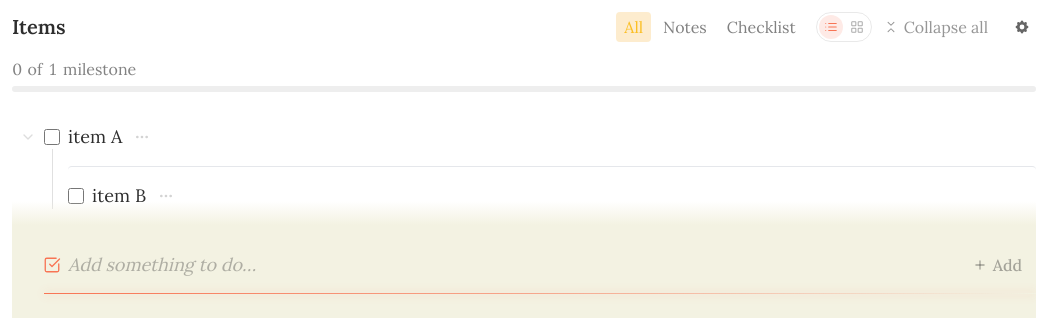
Test: Todo add bar nesting into a collapsed parent (FS-0007 R8.9) › should open a collapsed target when the add bar nests under it
expect the text "item A" is shown: met, box 68,124 -> 122,150
Step 1. Click the button named "Collapse item A" → (28, 137), box 12,121 -> 44,153
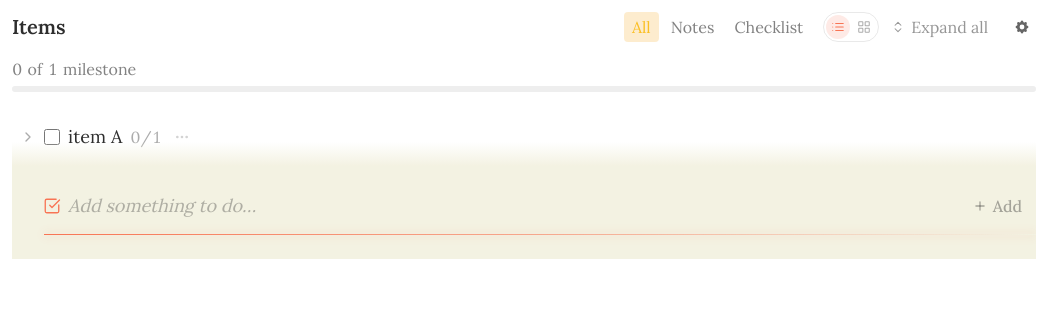
expect the text "item B" is gone: met
Step 2. Press Tab in the field labelled "Add something to do…", box 68,190 -> 947,222
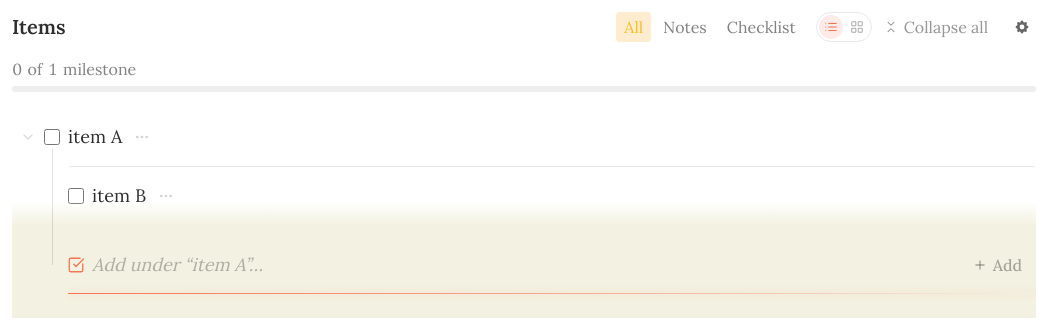
expect the text "item B" is shown: met, box 92,183 -> 146,209
expect the button named "Collapse item A" is shown: met, box 12,121 -> 44,153
